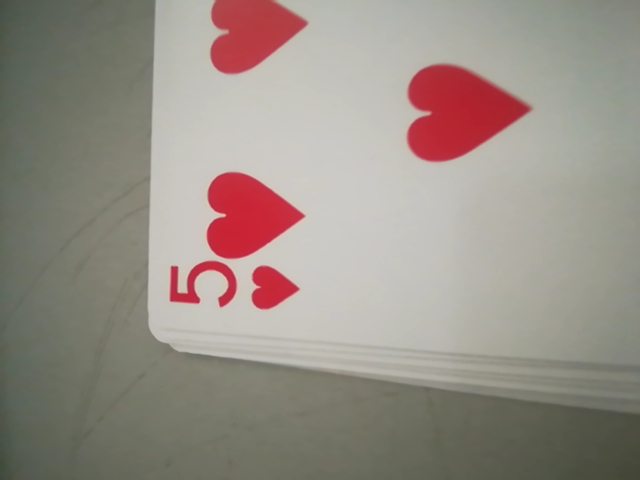hx 5: (160, 255, 307, 324)
